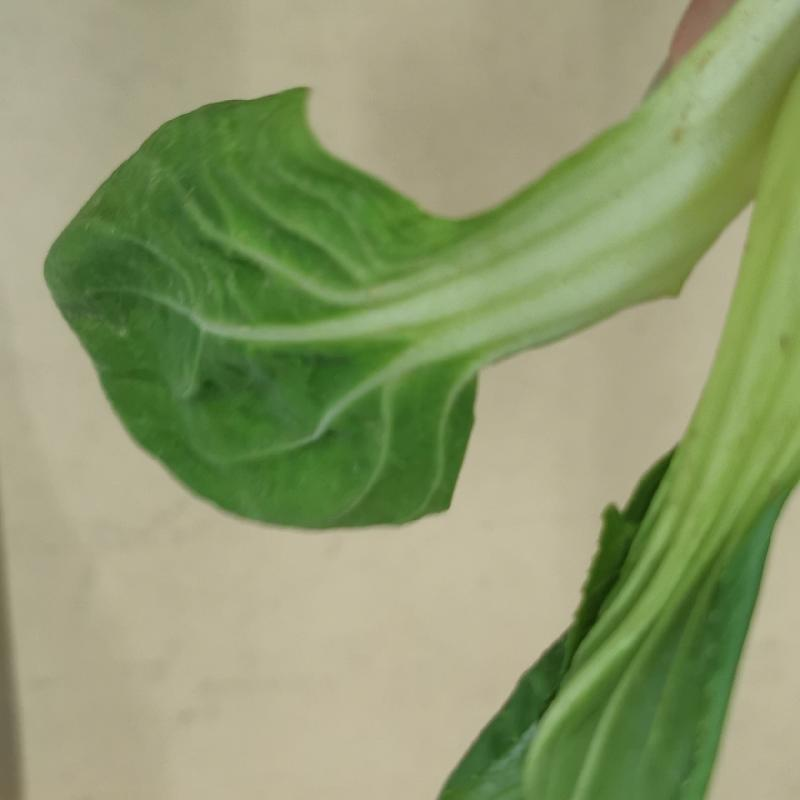green vegatable: (38, 15, 800, 799)
